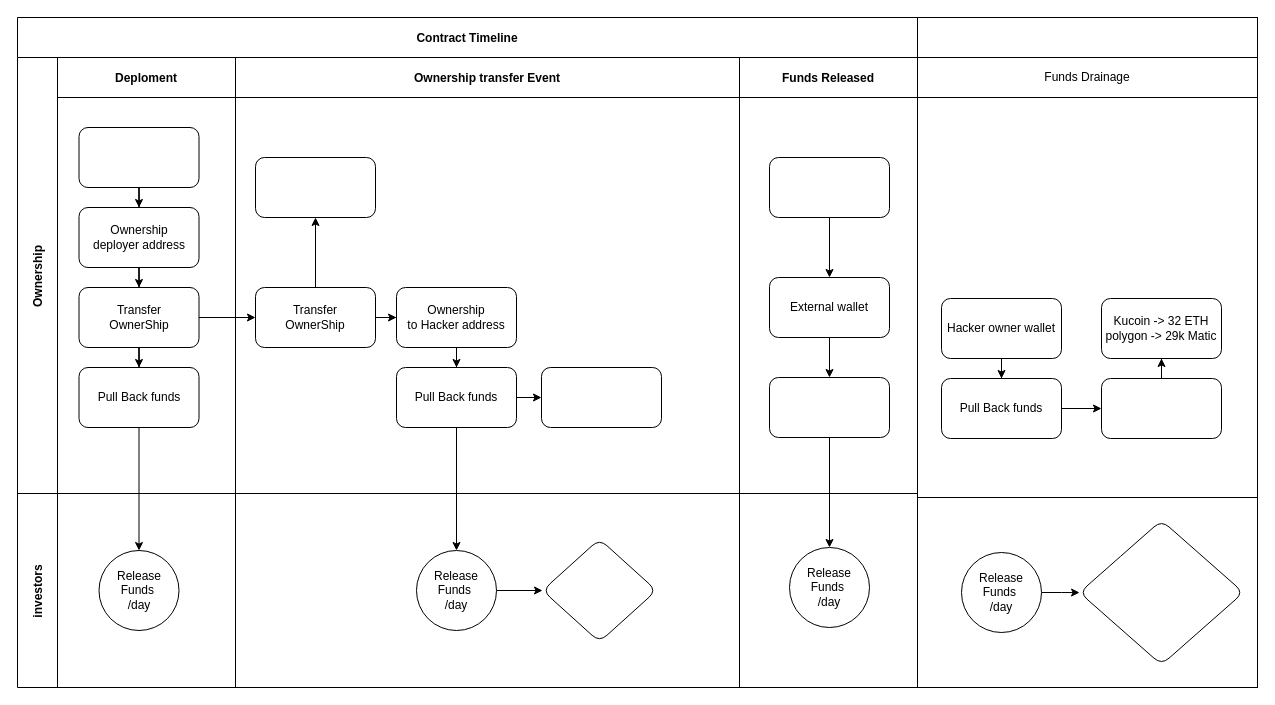
Some shapes in this 1275 by 705 pixel diagram are drawn without their labels. The centre of each missing label's shape, as x and y in pixels:
Deploy: (x=138, y=157)
pending balance 2.1M: (x=829, y=407)
Pending investors payment 2.1M: (x=829, y=187)
Reaming balance 2.2M: (x=1161, y=408)
Reaming balance 4.3M: (x=601, y=397)
Reaming balance 7.2M: (x=315, y=187)
Total balance reduced: (x=599, y=590)
Total balance reduced to 0: (x=1161, y=592)
